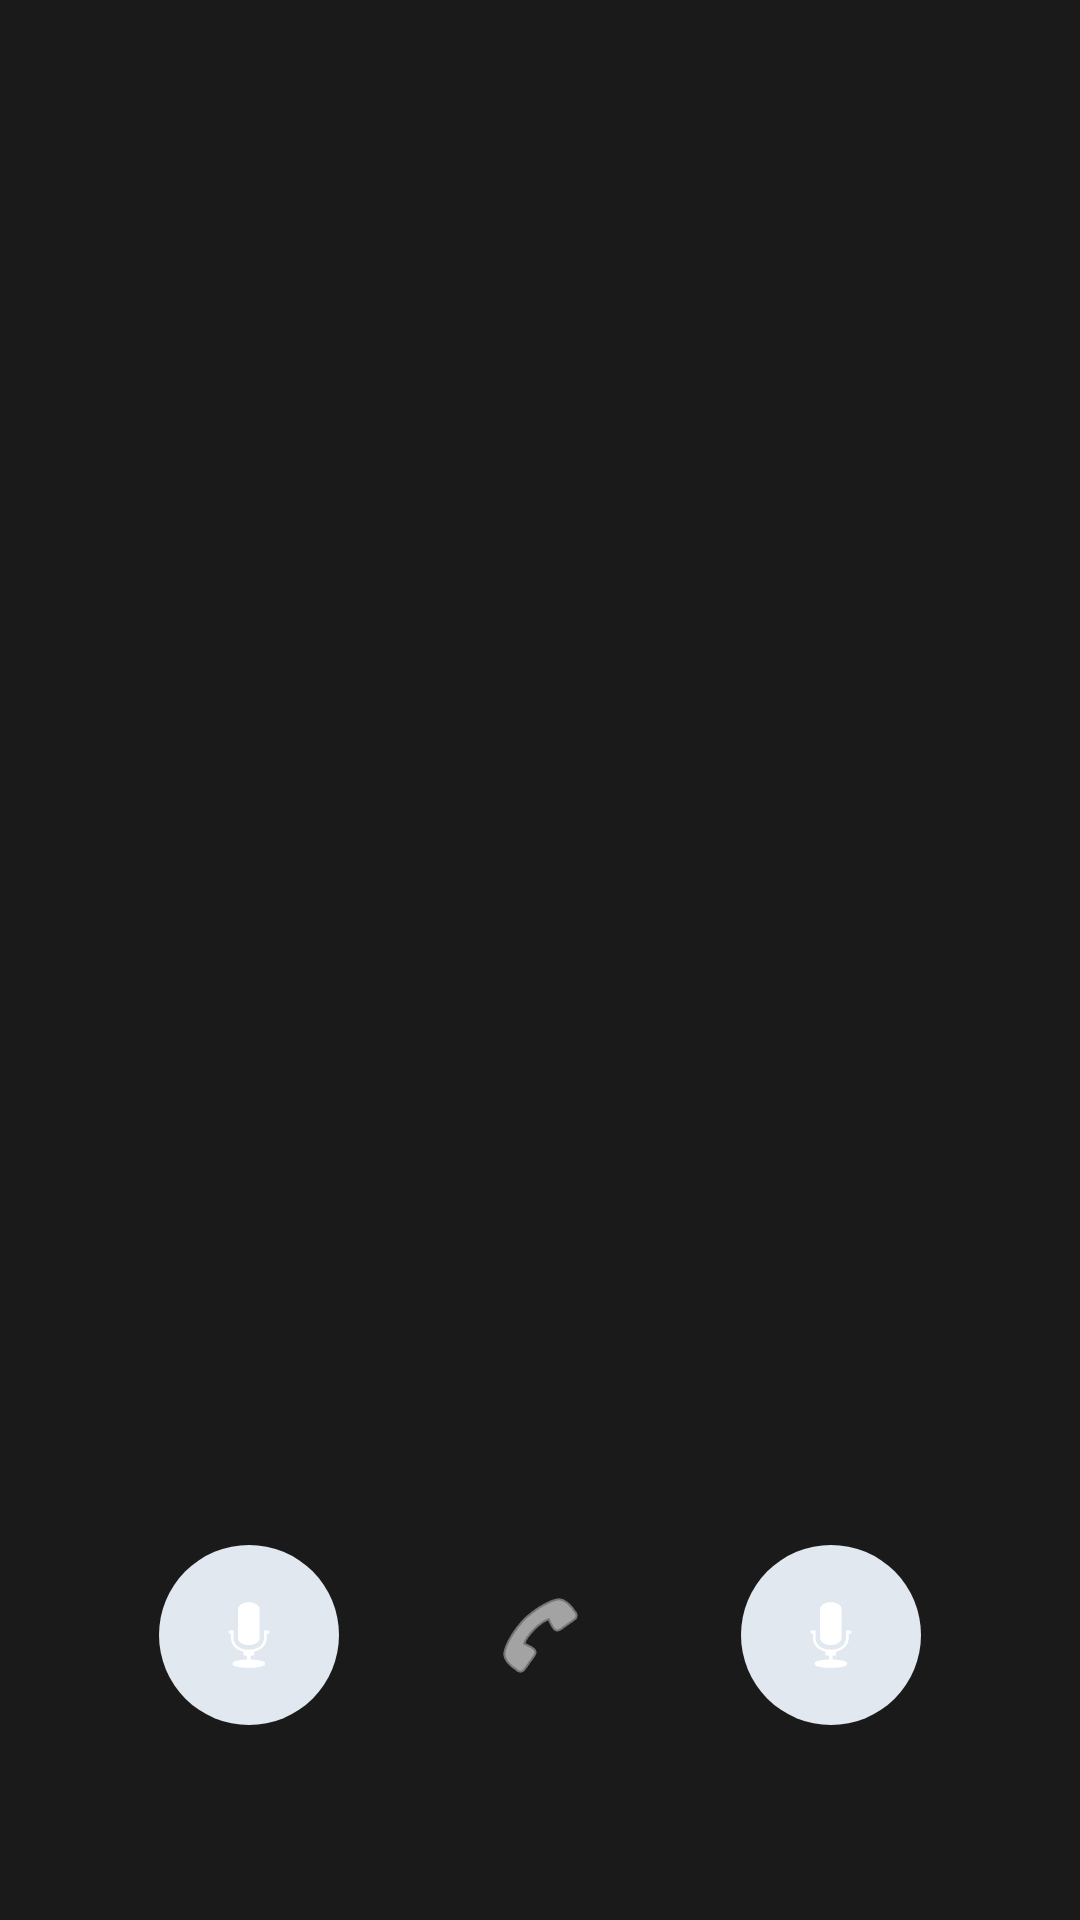

Icon click points for this 1080 × 1920 phone screenshot, format [x,y]:
call: [540,1635]
speak now: [249,1635], [831,1635]
